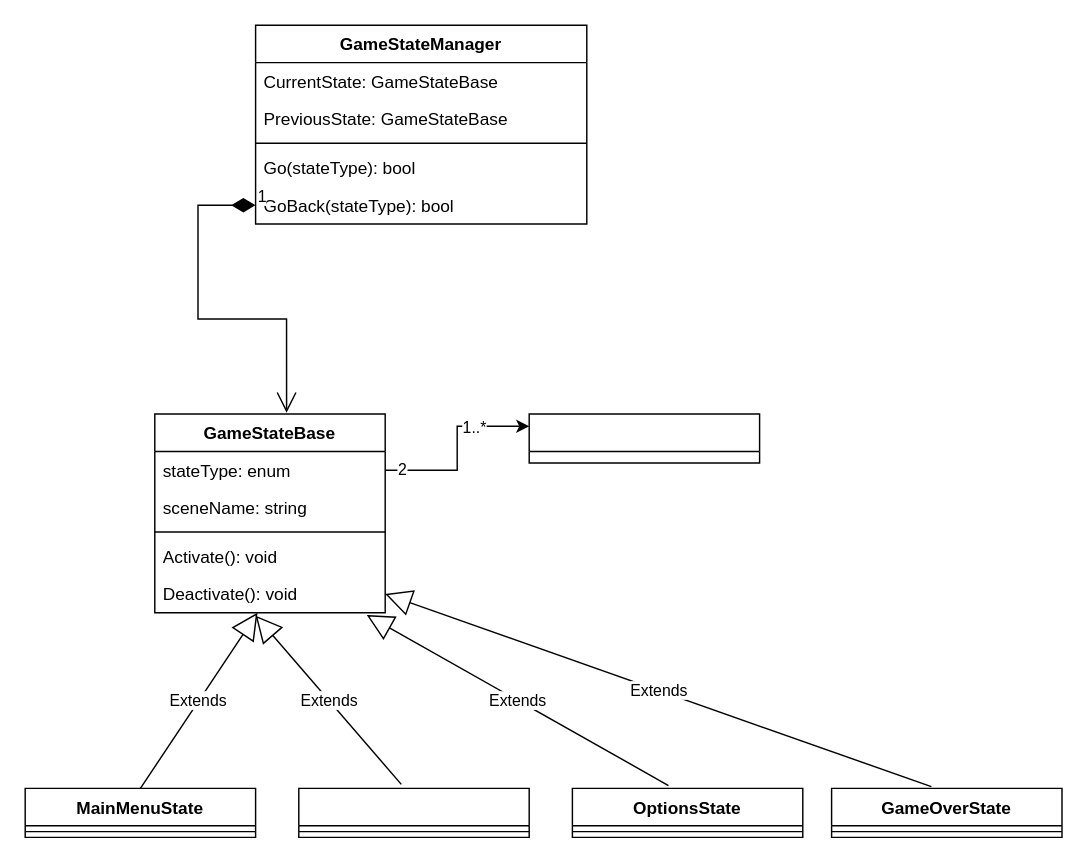
This 1087x863 diagram has some shape labels left out. Each missing label, with the centre of its shape:
"InGameState" belongs at [413,812].
"Transition" belongs at [644,438].
